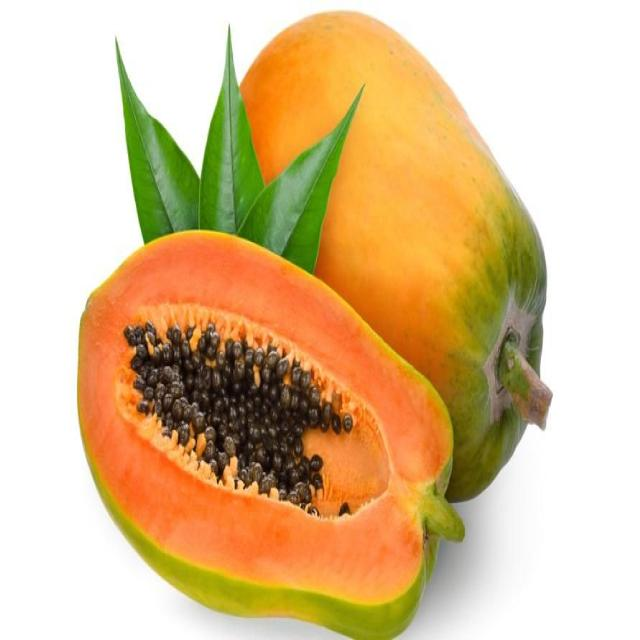fruit: (13, 11, 624, 630)
